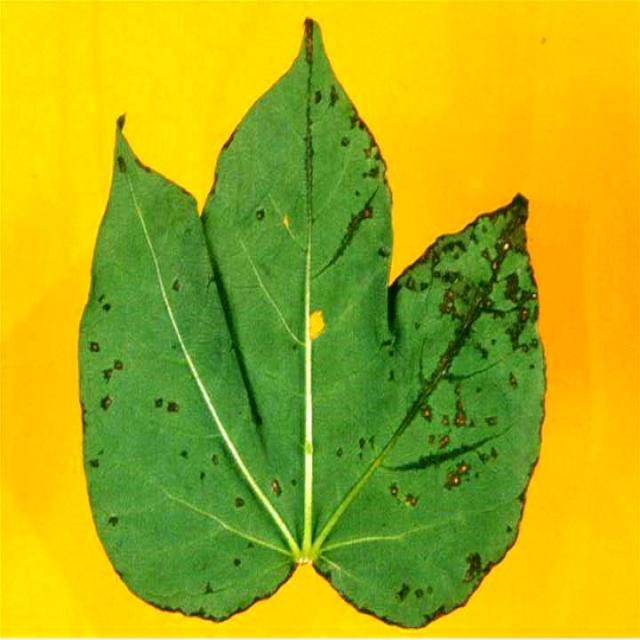Bacterial Blight: (422, 201, 548, 444)
